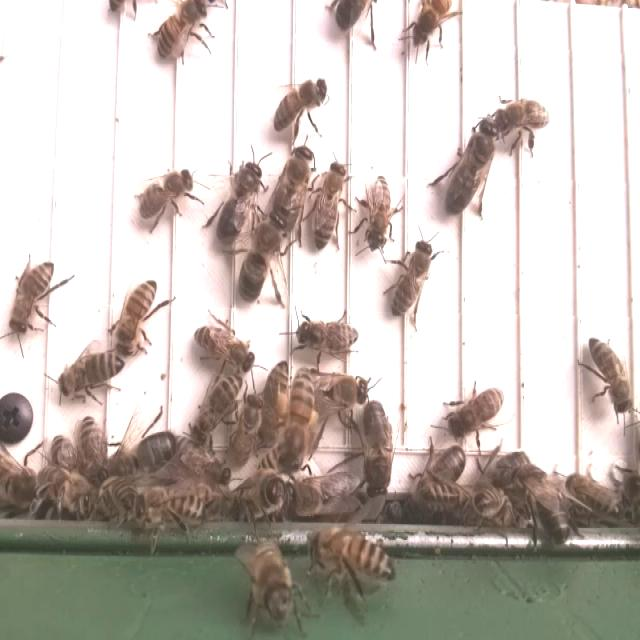Drone: (439, 115, 498, 220), (235, 212, 286, 304), (214, 158, 264, 250), (100, 429, 180, 484), (267, 143, 313, 237), (356, 398, 394, 504)
Worker: (310, 531, 394, 581), (584, 336, 633, 418), (387, 238, 434, 320), (188, 375, 240, 448), (9, 259, 57, 337), (282, 367, 315, 472), (153, 0, 211, 59), (310, 157, 346, 252), (136, 167, 195, 223), (115, 276, 158, 352), (271, 79, 330, 134), (448, 385, 507, 439), (194, 324, 257, 374), (57, 352, 123, 399), (133, 485, 205, 527), (229, 389, 265, 468), (295, 316, 359, 359), (256, 358, 288, 444), (363, 171, 393, 253), (495, 96, 550, 138), (77, 412, 107, 478)
